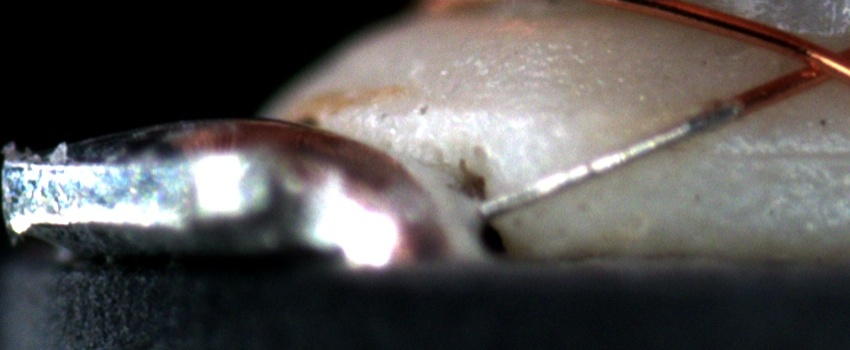CL: (777, 33, 848, 91)
DL: (730, 124, 850, 182)
TS: (480, 98, 741, 215)
